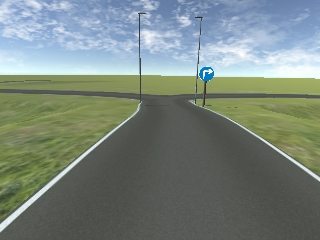right: (199, 67, 214, 82)
